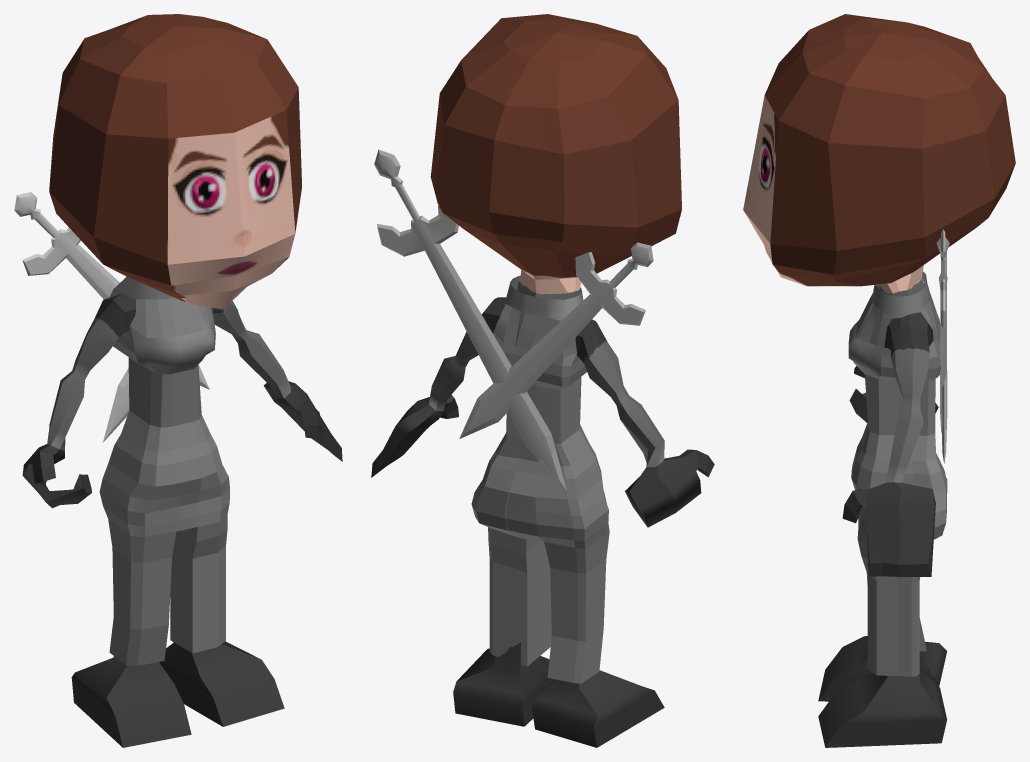
File: caballera.fbx
3 renders of one model, left to right at view 1: azimuth 30°, elevation 25°; view 2: azimuth 150°, elevation 25°; view 3: azimuth 270°, elevation 25°, orthographic.
Visible parts, largest first — view 1: pCube2, pPlane2, pPlane3, pPlane4; view 2: pCube2, pPlane2, pPlane4, pPlane3; view 3: pCube2, pPlane2, pPlane4, pPlane3.
Boxes of the visible parts, x1=… form: pCube2: x1=22, y1=14, x2=342, y2=747; pPlane2: x1=99, y1=276, x2=229, y2=665; pPlane3: x1=14, y1=192, x2=209, y2=389; pPlane4: x1=103, y1=368, x2=129, y2=442; pCube2: x1=371, y1=14, x2=714, y2=747; pPlane2: x1=471, y1=275, x2=609, y2=683; pPlane4: x1=374, y1=149, x2=566, y2=490; pPlane3: x1=459, y1=242, x2=653, y2=438; pCube2: x1=743, y1=14, x2=1015, y2=747; pPlane2: x1=848, y1=271, x2=947, y2=676; pPlane4: x1=936, y1=229, x2=949, y2=433; pPlane3: x1=941, y1=252, x2=947, y2=463.
Size of the model in its own units: 3.38 by 7.1 by 2.59.
